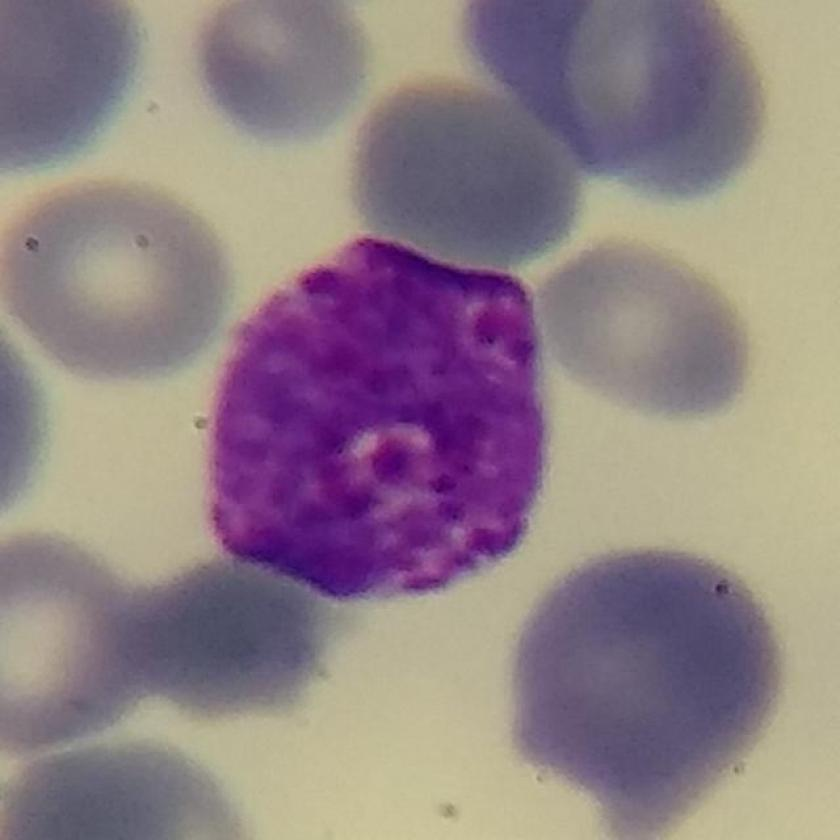basophil: (203, 223, 573, 605)
